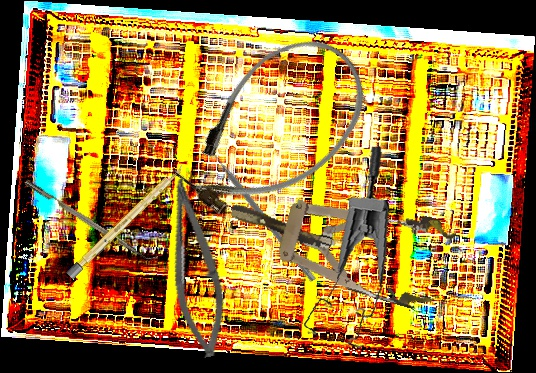Cannula: (154, 14, 392, 243)
Chopper: (24, 173, 159, 267)
Micro Scissor: (150, 174, 238, 362)
Scalpel Handle: (65, 162, 187, 280)
Spatula Surgical: (204, 141, 322, 283)
Speculum: (219, 164, 459, 315), (286, 145, 404, 354)
